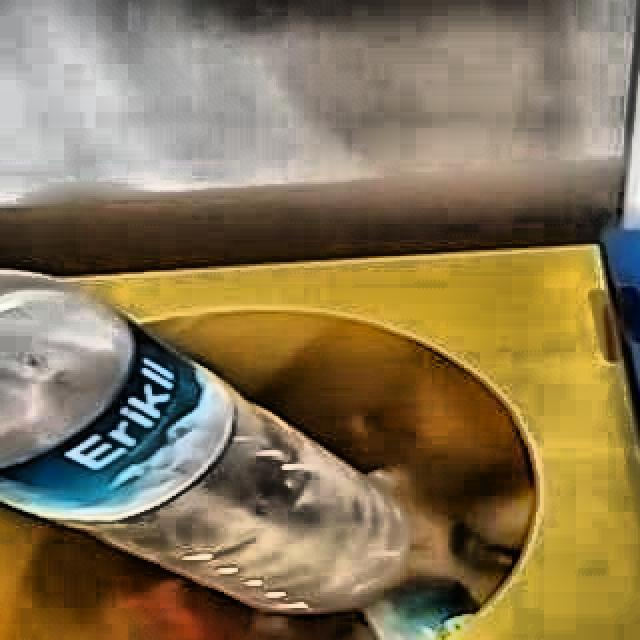plastic: (0, 271, 405, 612)
